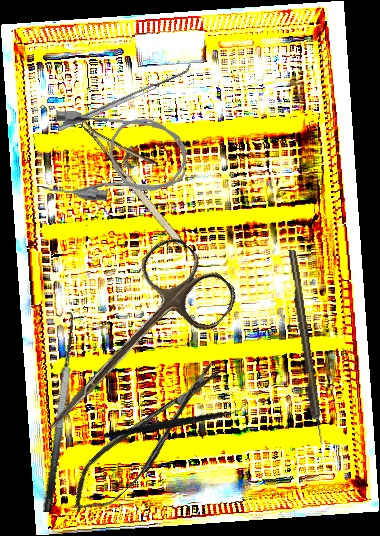Cannula: (41, 109, 189, 207)
Chopper: (103, 378, 248, 462)
Hook Surgical: (287, 249, 325, 445)
Iris Scissors: (17, 229, 244, 465)
Micro Scissor: (57, 352, 238, 525)
Needle Holder: (78, 98, 206, 251)
Spatula Surgical: (25, 310, 84, 513), (55, 61, 194, 132)
